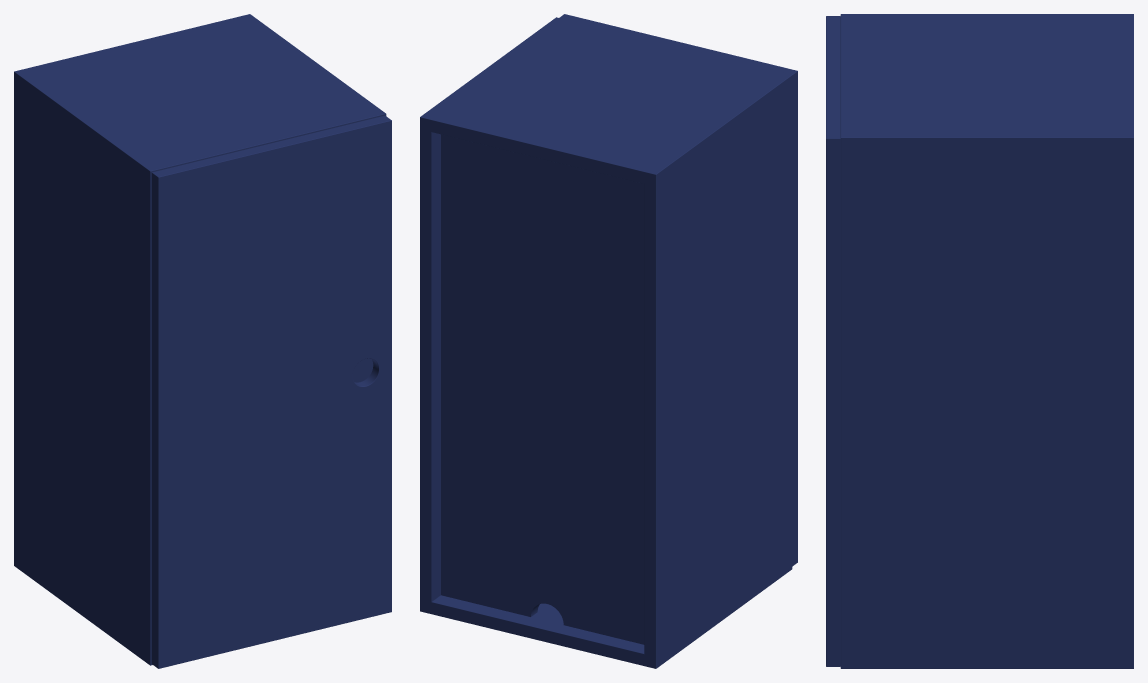
Rendered from MOD_1X2_D_B_DER_AP_AF.glb.
The picture shows the model from 3 angles, left to right: view 1: azimuth 30°, elevation 25°; view 2: azimuth 150°, elevation 25°; view 3: azimuth 270°, elevation 25°; orthographic projection. The views are drawn at different scales.
Bounding box in the file's own units: 360 × 720 × 378.
